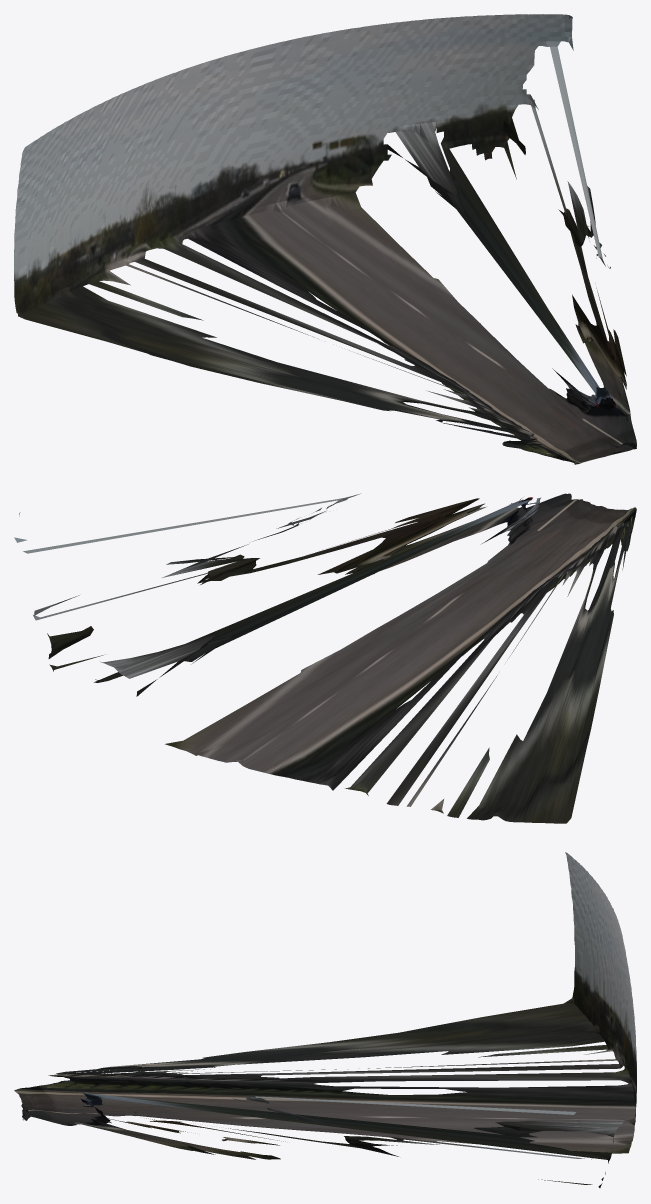
The picture shows the model from 3 angles, top to bottom: view 1: azimuth 30°, elevation 25°; view 2: azimuth 150°, elevation 25°; view 3: azimuth 270°, elevation 25°; orthographic projection. The views are drawn at different scales.
Visible parts, largest first — view 1: defaultobject; view 2: defaultobject; view 3: defaultobject.
Boxes of the visible parts, x1,y1,x2,y2 form: defaultobject: (14,14,636,464); defaultobject: (14,493,636,823); defaultobject: (14,852,636,1187).
Bounding box in the file's own units: 40.95 × 13.25 × 44.8.
Materials: 1 (1 with a texture image).
